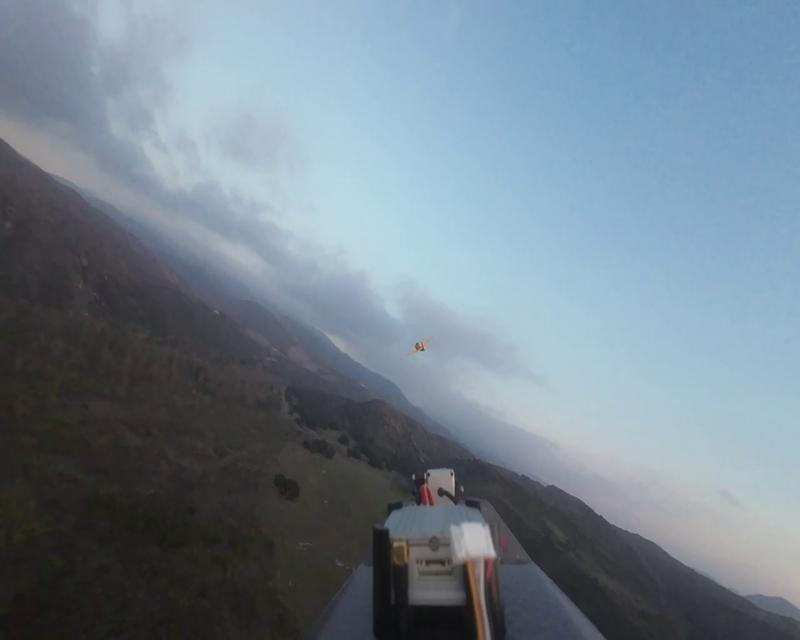UAV: (406, 336, 434, 356)
